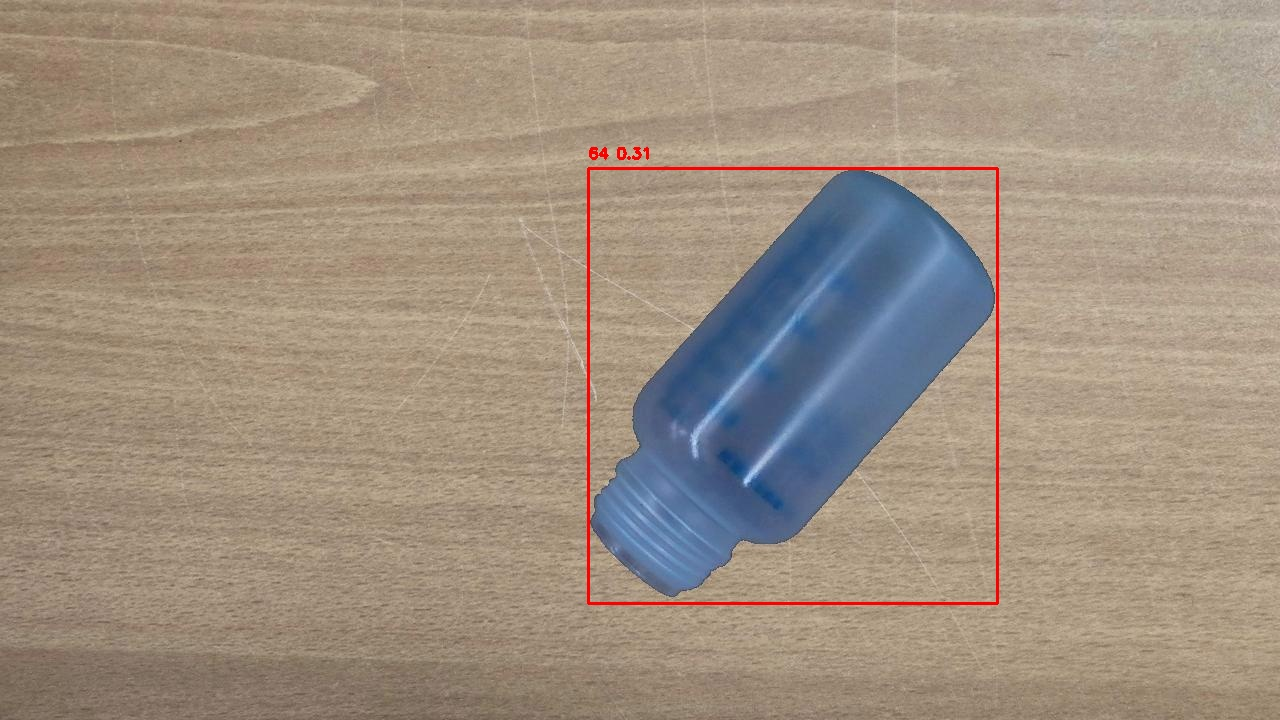cup: (588, 168, 997, 603)
